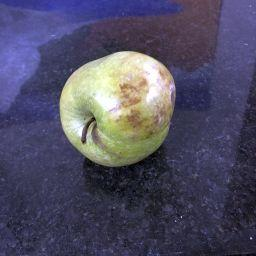apple: (38, 39, 200, 186)
